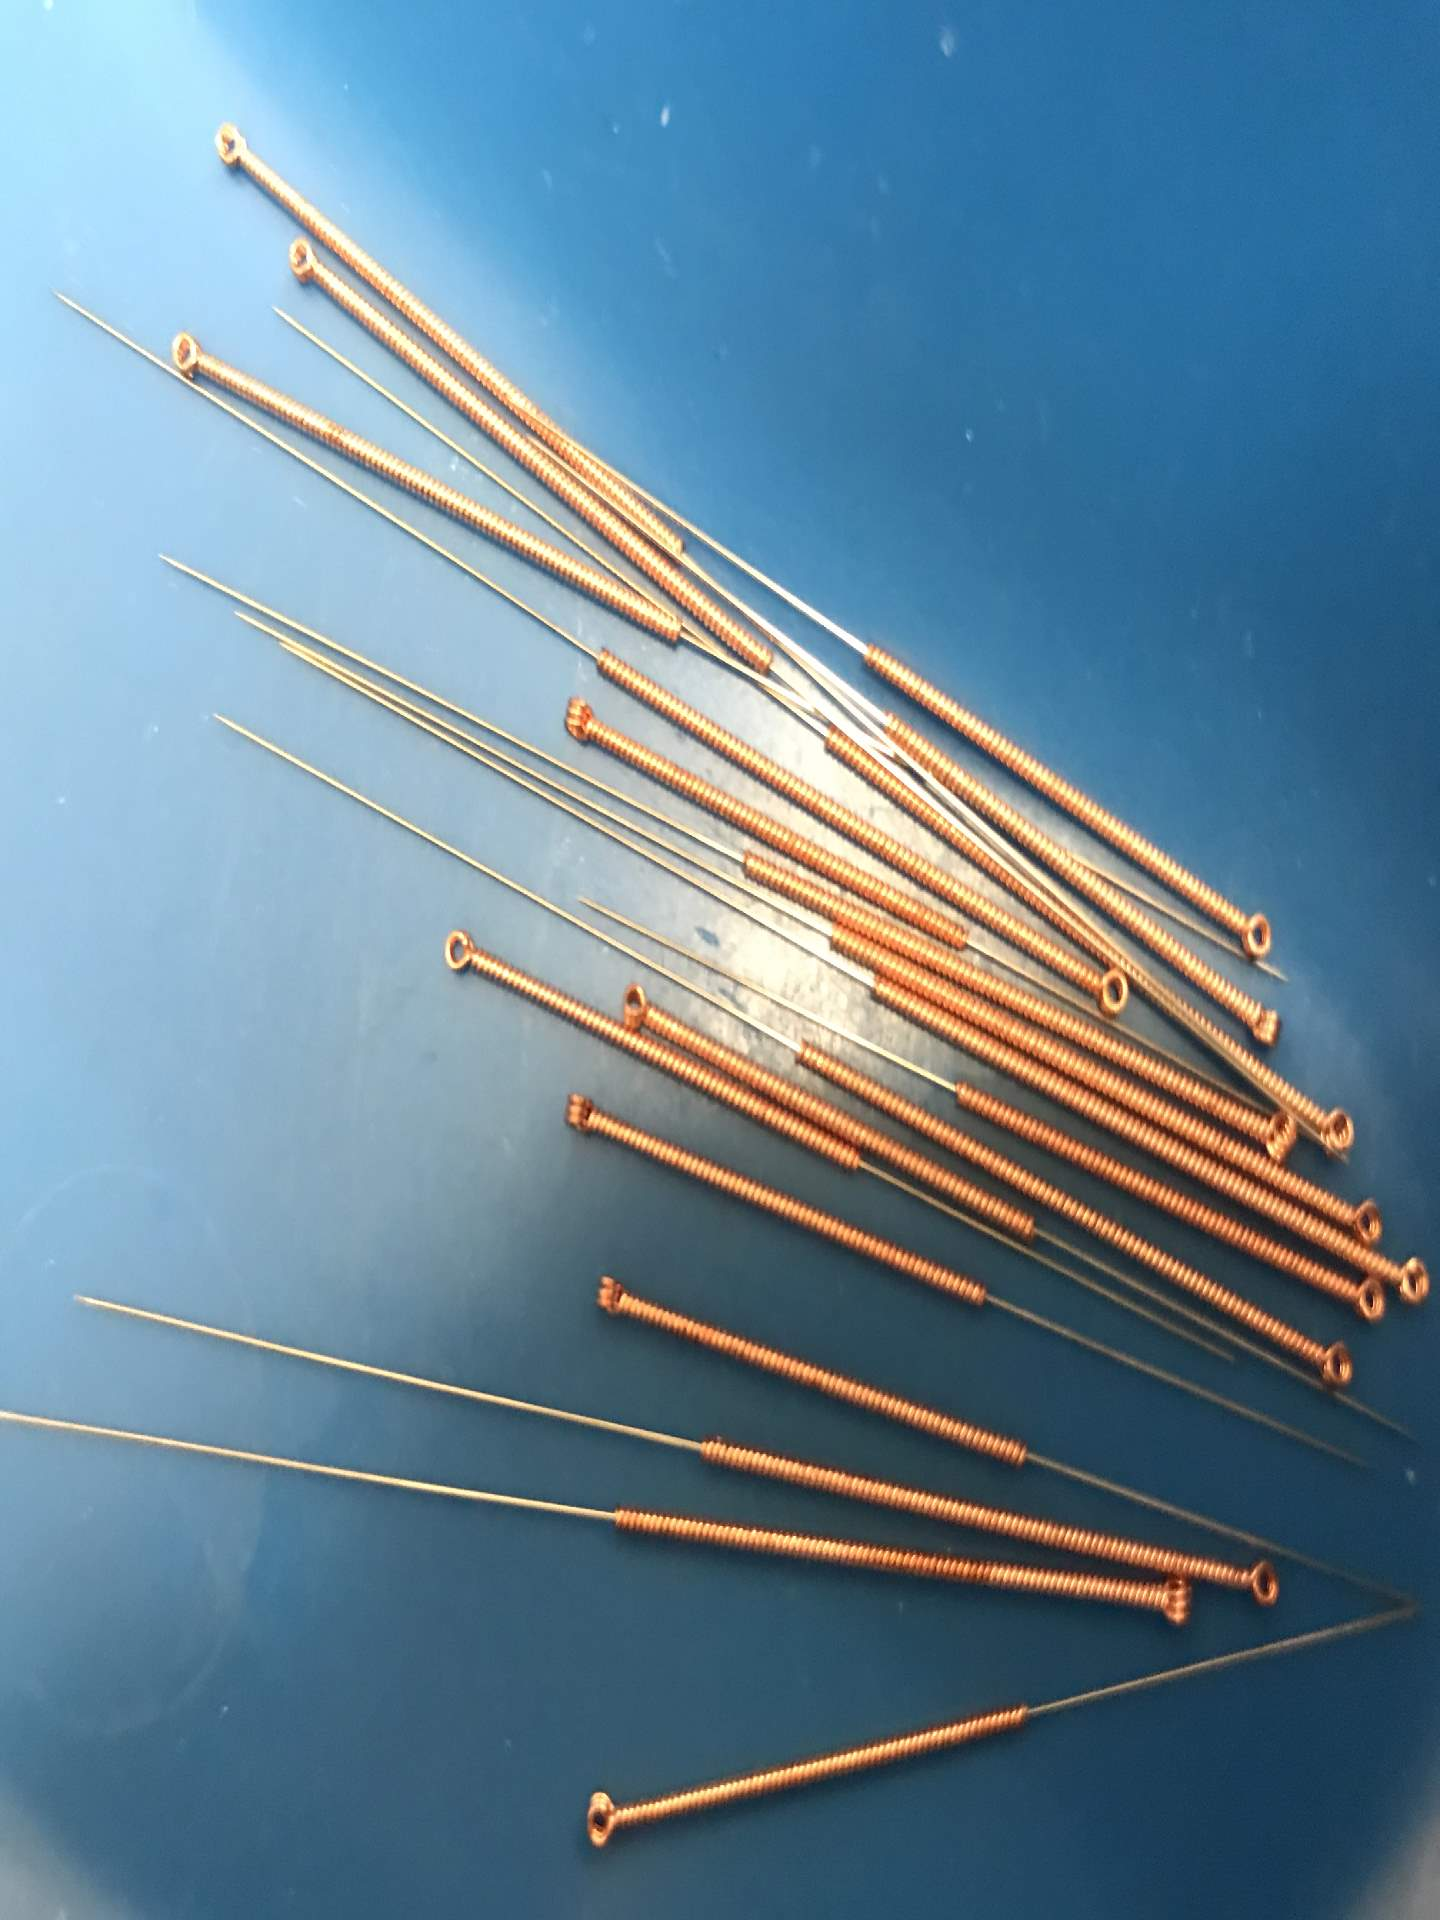needle: (1206, 1541, 1295, 1621), (566, 1781, 641, 1863), (578, 1262, 644, 1333), (427, 916, 490, 989), (1299, 1330, 1363, 1401), (1308, 1095, 1369, 1166), (1225, 897, 1283, 971), (548, 1079, 610, 1146), (154, 317, 213, 386), (200, 113, 262, 175), (551, 685, 607, 751), (1139, 1569, 1199, 1630), (1336, 1271, 1393, 1330), (1389, 1246, 1437, 1314), (1242, 989, 1290, 1054), (1085, 962, 1131, 1023), (275, 231, 321, 293), (1345, 1188, 1389, 1250), (1254, 1107, 1299, 1166), (616, 975, 658, 1033)
